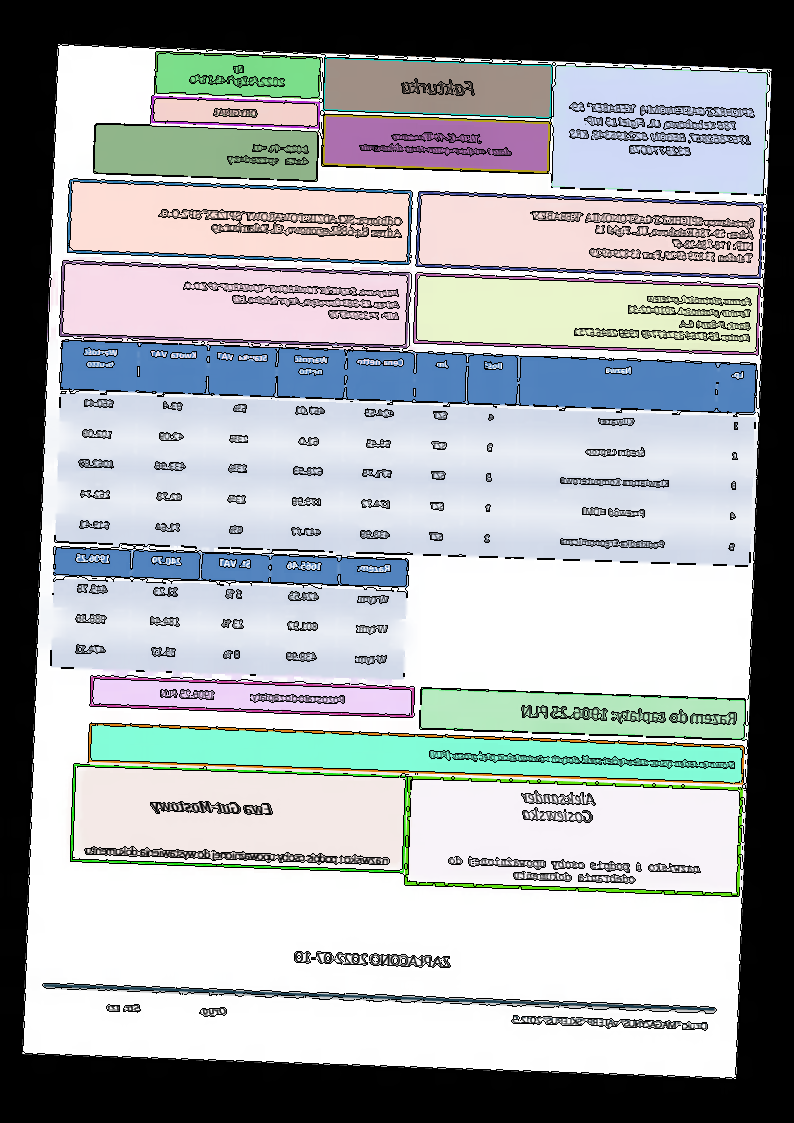Table: (54, 339, 759, 568), (50, 546, 410, 680)
TextBox: (526, 207, 757, 266), (565, 99, 760, 162), (571, 289, 755, 344), (180, 279, 403, 323), (157, 205, 406, 241), (448, 853, 703, 888), (84, 843, 392, 869), (428, 748, 737, 771), (520, 701, 739, 729), (358, 128, 514, 159), (510, 1013, 712, 1033), (293, 947, 454, 972), (160, 686, 346, 706), (148, 796, 275, 821), (516, 788, 598, 826), (188, 60, 288, 90), (225, 140, 311, 169), (104, 1000, 230, 1018), (400, 77, 478, 100), (212, 105, 261, 119)
